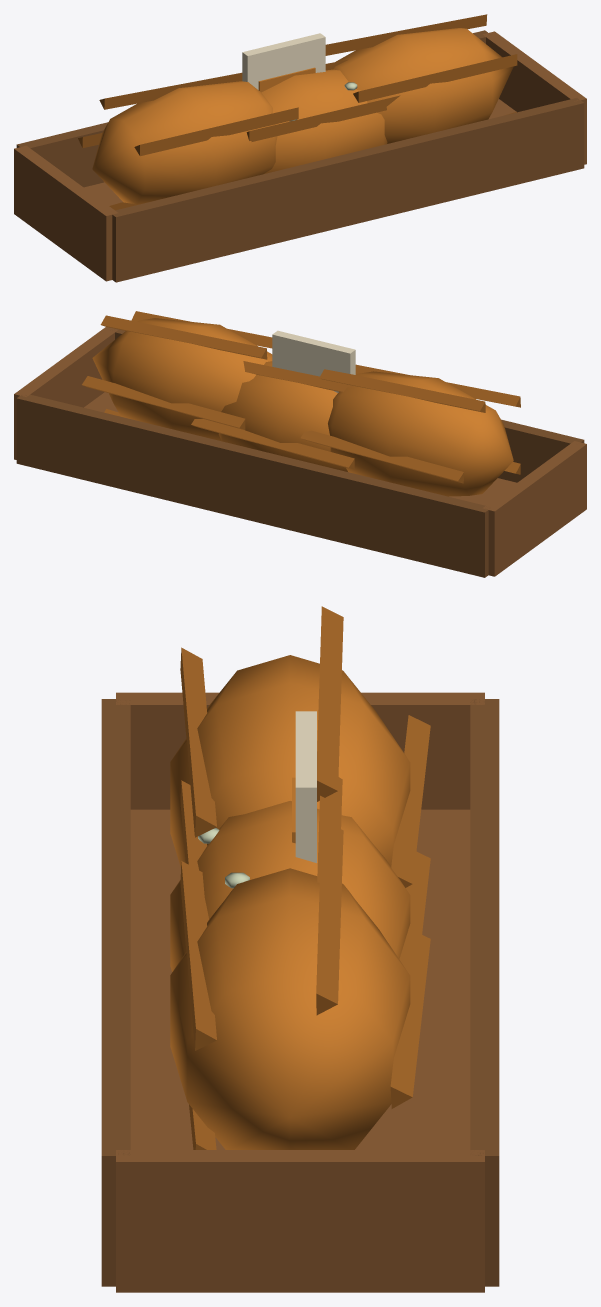
Rendered from Crop_CacaoPod.fbx.
The picture shows the model from 3 angles, top to bottom: view 1: azimuth 30°, elevation 25°; view 2: azimuth 150°, elevation 25°; view 3: azimuth 270°, elevation 25°; orthographic projection. The views are drawn at different scales.
Parts seen in each view (by area): view 1: Crop_CacaoPod__Stack, Crop_CacaoPod, Crop_CacaoPod__Seed; view 2: Crop_CacaoPod__Stack, Crop_CacaoPod, Crop_CacaoPod__Seed; view 3: Crop_CacaoPod__Stack, Crop_CacaoPod, Crop_CacaoPod__Seed.
Part boxes in pixels (x1,y1,x2,y2): Crop_CacaoPod__Stack: (14, 14, 586, 282); Crop_CacaoPod: (246, 59, 400, 174); Crop_CacaoPod__Seed: (242, 33, 325, 92); Crop_CacaoPod__Stack: (14, 311, 586, 577); Crop_CacaoPod: (191, 361, 356, 471); Crop_CacaoPod__Seed: (272, 330, 355, 392); Crop_CacaoPod__Stack: (101, 606, 499, 1292); Crop_CacaoPod: (170, 777, 430, 971); Crop_CacaoPod__Seed: (292, 711, 316, 862).
Size of the model in its own units: 0.308 by 0.09 by 0.1103.
